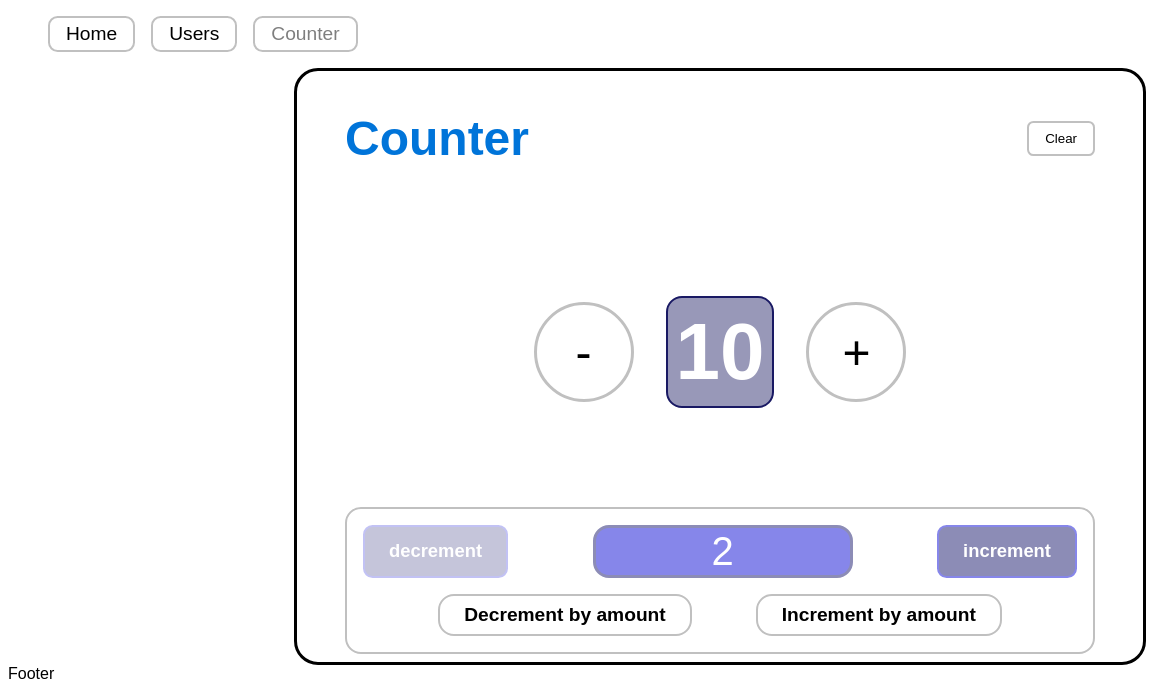
it: Test AmountButtonsBox › Test amount-buttons-box__decrement-btn › Test button functionality case when another amount
Check: the heading with test id "global-counter-value" reads "10", box [676,307,764,396]
Replace the text in the number field with test id "amount-box__value" with "5": coordinates (722, 551) [592,525,852,578]
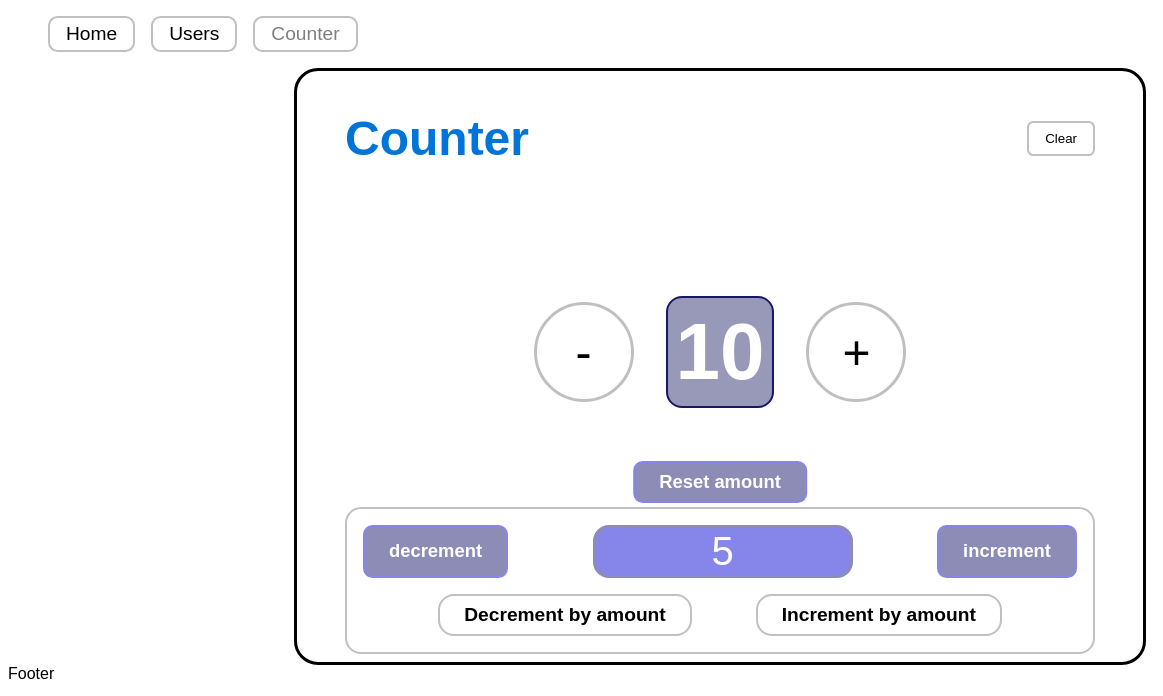
Click the button with test id "amount-buttons-box__decrement-btn": coordinates (565, 615) [438,594,692,636]
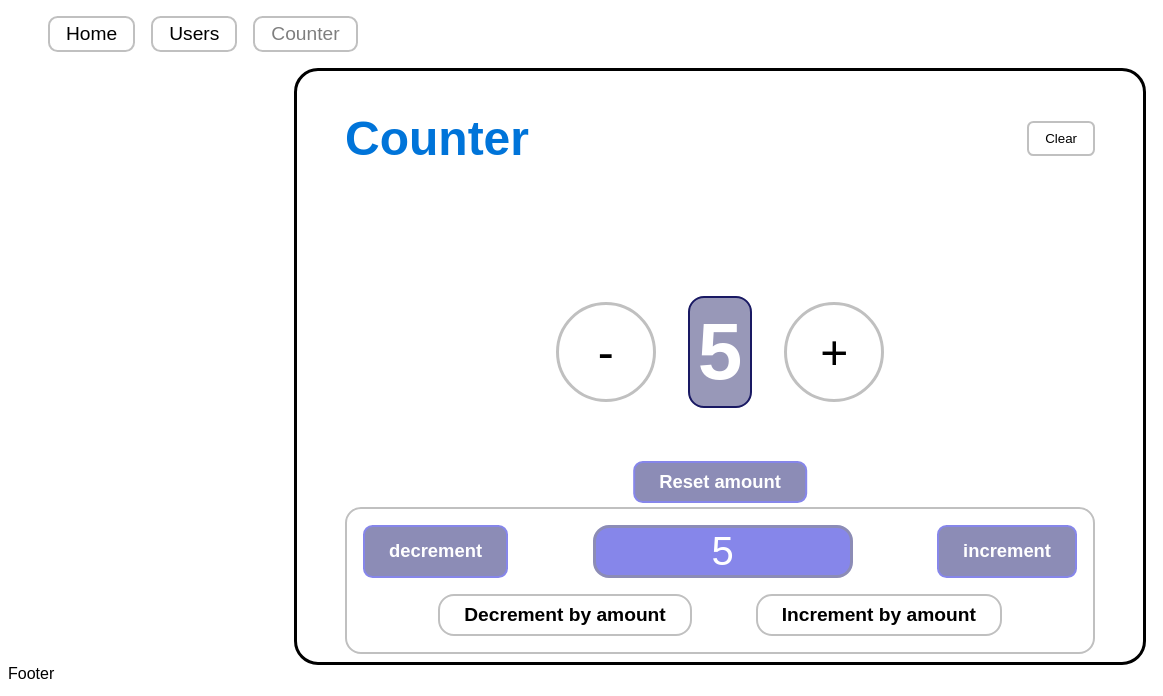
Check: the heading with test id "global-counter-value" does not show "8", box [688,296,752,408]
Check: the heading with test id "global-counter-value" reads "5", box [698,307,742,396]
